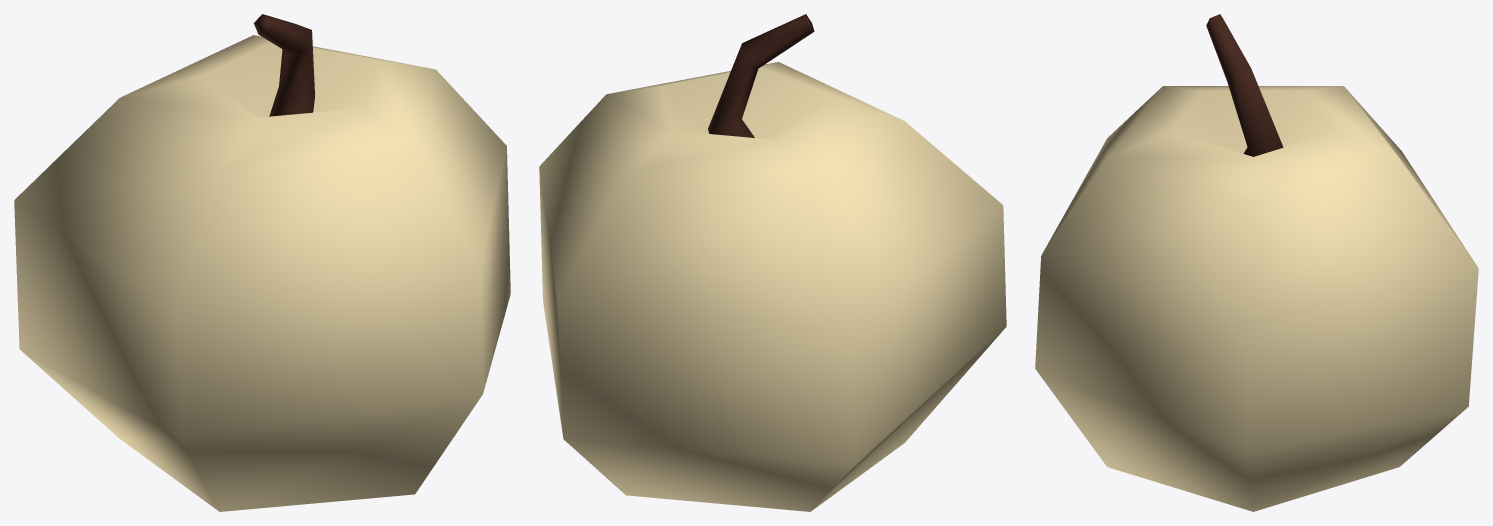
The model's file is Pear_White.fbx.
3 renders of one model, left to right at view 1: azimuth 30°, elevation 25°; view 2: azimuth 150°, elevation 25°; view 3: azimuth 270°, elevation 25°, orthographic. The views are drawn at different scales.
Visible parts, largest first — view 1: Pear_White; view 2: Pear_White; view 3: Pear_White.
Part boxes in pixels (bbox=[...]): Pear_White: bbox=[14, 14, 510, 511]; Pear_White: bbox=[539, 14, 1006, 511]; Pear_White: bbox=[1035, 14, 1478, 511].
Bounding box in the file's own units: 17.35 × 20.14 × 17.93.
